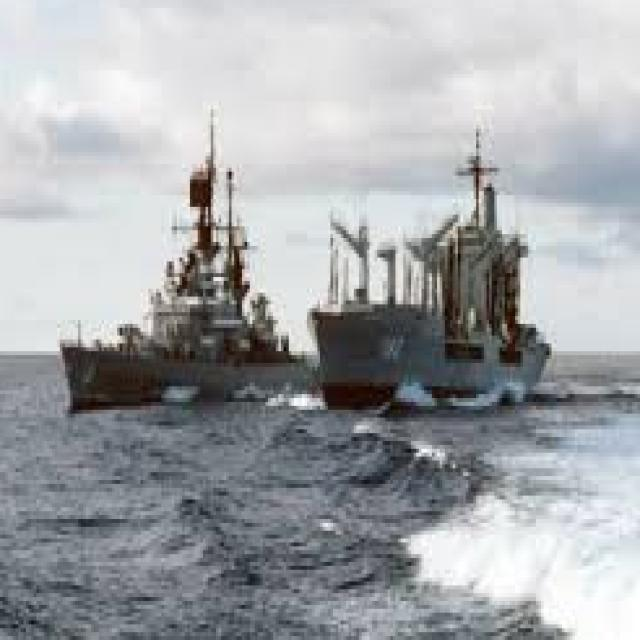navalvessels: (302, 111, 579, 433), (55, 134, 290, 392)
